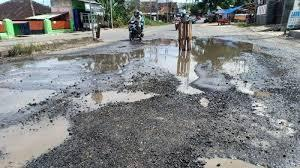Pothole: (37, 33, 290, 104), (1, 76, 163, 168), (170, 123, 300, 168)
